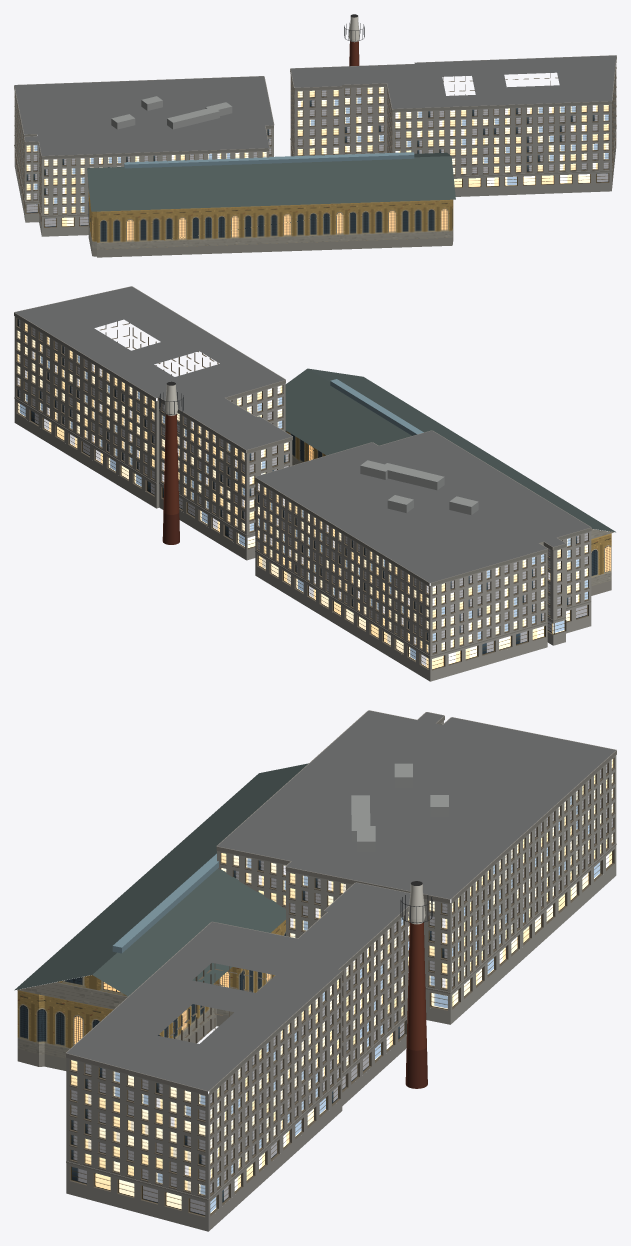
File: schiffbau.glb
3 renders of one model, top to bottom at view 1: azimuth 30°, elevation 25°; view 2: azimuth 150°, elevation 25°; view 3: azimuth 270°, elevation 25°, orthographic. The views are drawn at different scales.
Visible parts, largest first — view 1: schiffbau; view 2: schiffbau; view 3: schiffbau.
Part boxes in pixels (x1,y1,x2,y2): schiffbau: (14, 14, 616, 257); schiffbau: (14, 286, 615, 681); schiffbau: (14, 710, 616, 1231).
Size of the model in its own units: 203 by 47.84 by 130.
3 materials, 3 textured.
